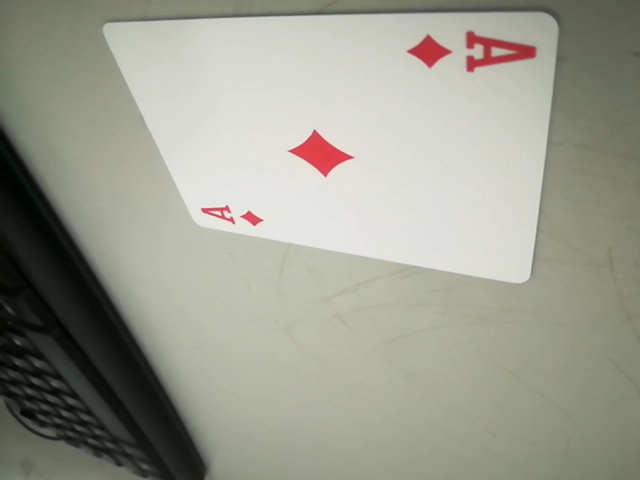fk a: (407, 26, 539, 77), (194, 196, 271, 230)
